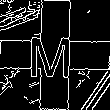M_N: (32, 30, 78, 80)
